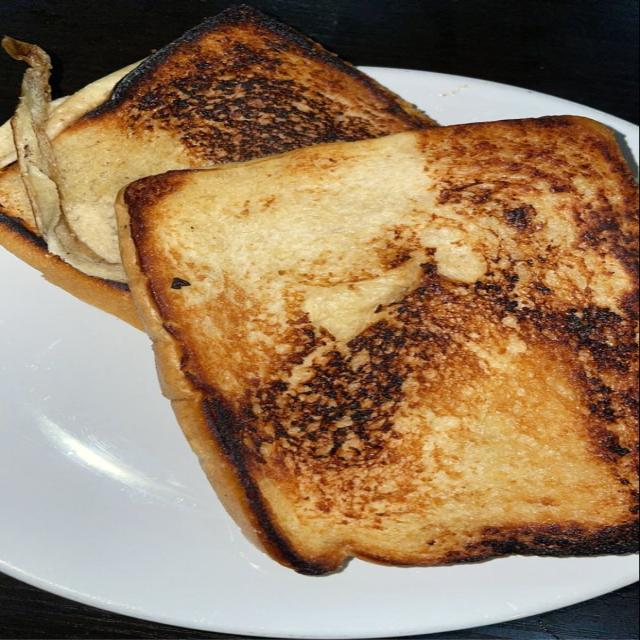toast bread: (117, 117, 638, 574), (52, 6, 433, 283)
